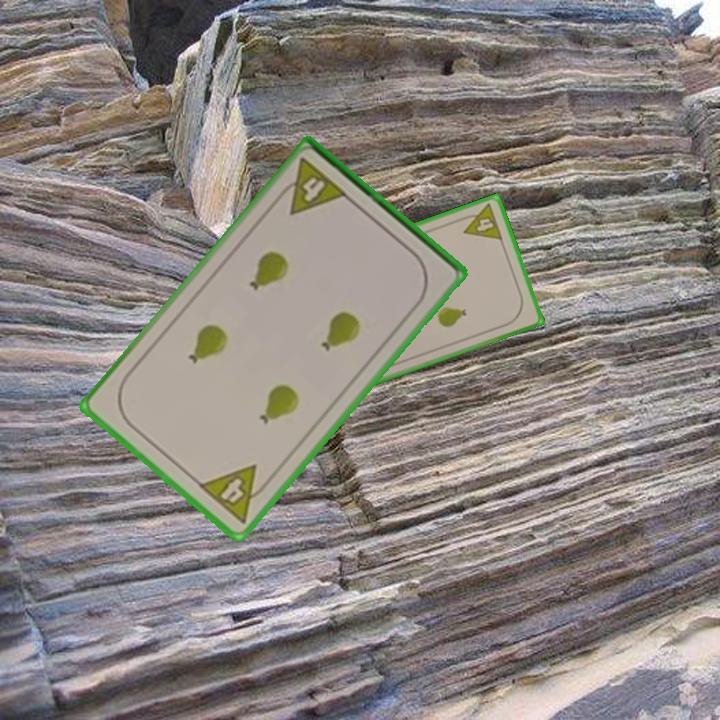4p: (194, 461, 275, 527), (272, 154, 351, 218), (456, 200, 505, 243)
